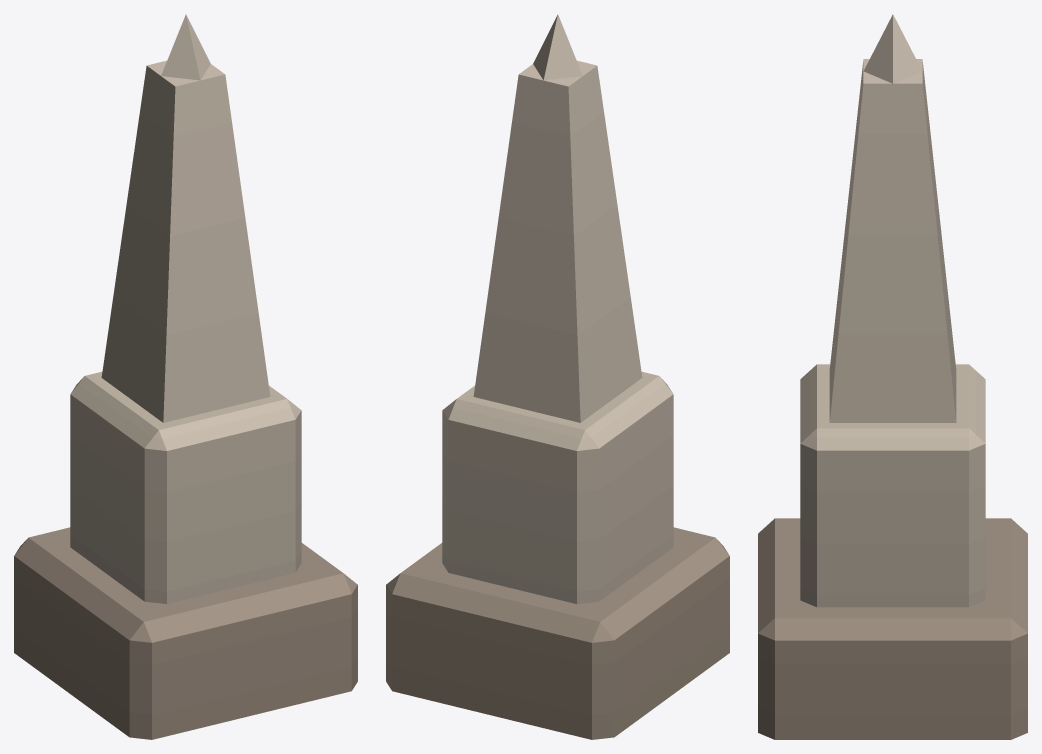
File: headstone_4.glb
3 renders of one model, left to right at view 1: azimuth 30°, elevation 25°; view 2: azimuth 150°, elevation 25°; view 3: azimuth 270°, elevation 25°, orthographic. The views are drawn at different scales.
Visible parts, largest first — view 1: headstone_4; view 2: headstone_4; view 3: headstone_4.
Part boxes in pixels (left/top/right/bottom): headstone_4: left=14, top=14, right=357, bottom=739; headstone_4: left=386, top=14, right=729, bottom=739; headstone_4: left=758, top=14, right=1027, bottom=739.
Bounding box in the file's own units: 0.64 × 1.75 × 0.64.
1 material, 1 textured.
